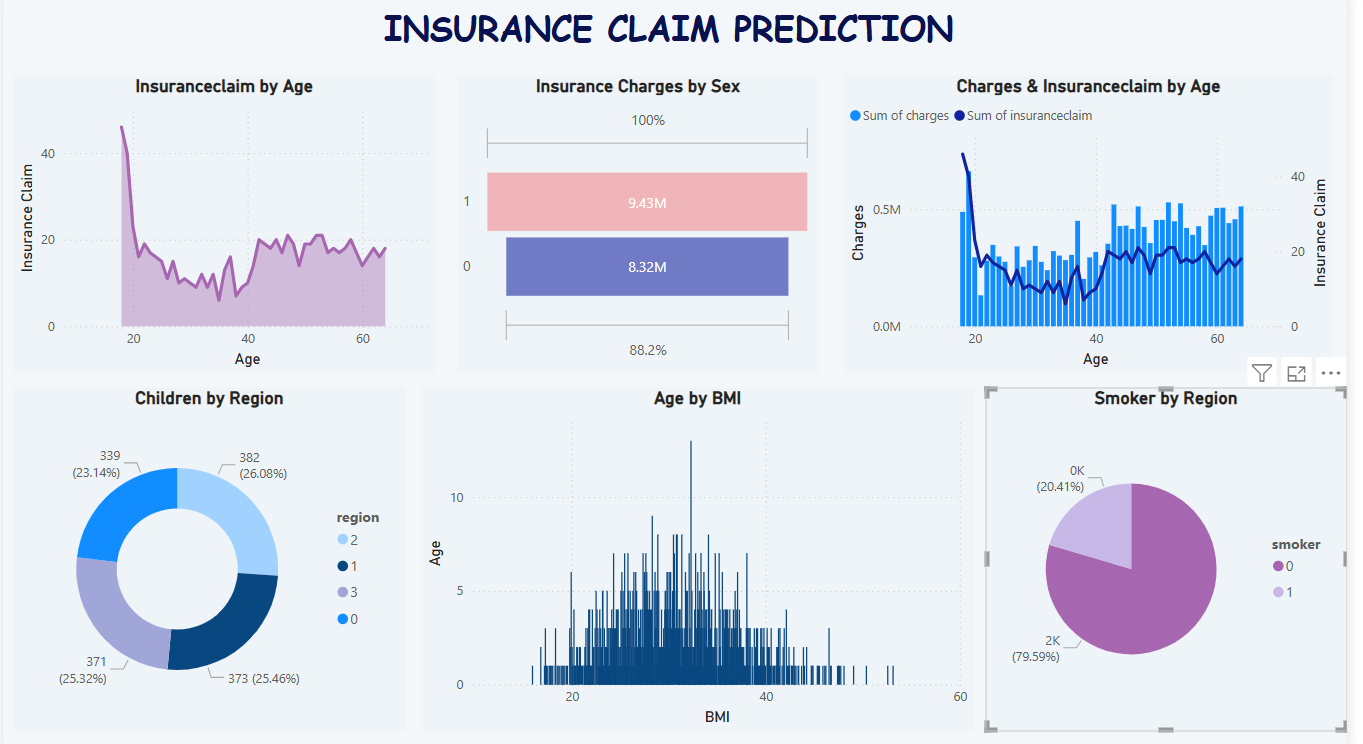

What the dashboard file says about the page in this screenshot:
{"tool":"powerbi","page":{"name":"Page 1","canvas":[1280,720],"ordinal":0},"visuals":[{"type":"stackedAreaChart","fields":{"Category":["insurance2.age"],"Y":["Sum(insurance2.insuranceclaim)"]},"box":[0,23.3,452.8,336.2],"z":0},{"type":"donutChart","fields":{"Category":["insurance2.region"],"Y":["Sum(insurance2.children)"]},"box":[9.6,402.1,311.5,318.4],"z":1},{"type":"clusteredColumnChart","fields":{"Category":["insurance2.bmi"],"Y":["CountNonNull(insurance2.age)"]},"box":[321.1,373.2,603.8,347.2],"z":2},{"type":"lineStackedColumnComboChart","fields":{"Category":["insurance2.age"],"Y":["Sum(insurance2.charges)"],"Y2":["Sum(insurance2.insuranceclaim)"]},"box":[795.9,23.3,484.4,336.2],"z":3},{"type":"pieChart","fields":{"Category":["insurance2.smoker"],"Y":["Sum(insurance2.region)"]},"box":[913.9,402.1,351.3,304.6],"z":4},{"type":"funnel","fields":{"Category":["insurance2.sex"],"Y":["Sum(insurance2.charges)"]},"box":[433.6,63.1,343.1,279.9],"z":5}]}

Visuals, with their boxes on the page's 1280x720 design canvas (x1, y1, x2, y2). These are canvas units, not pixel positions in the 1363x744 screenshot, which may show the page scaled, cropped or inside an application window:
stackedAreaChart - insurance2.age x Sum(insurance2.insuranceclaim): 0,23,453,360
donutChart - insurance2.region x Sum(insurance2.children): 10,402,321,720
clusteredColumnChart - insurance2.bmi x CountNonNull(insurance2.age): 321,373,925,720
lineStackedColumnComboChart - insurance2.age x Sum(insurance2.charges): 796,23,1280,360
pieChart - insurance2.smoker x Sum(insurance2.region): 914,402,1265,707
funnel - insurance2.sex x Sum(insurance2.charges): 434,63,777,343
